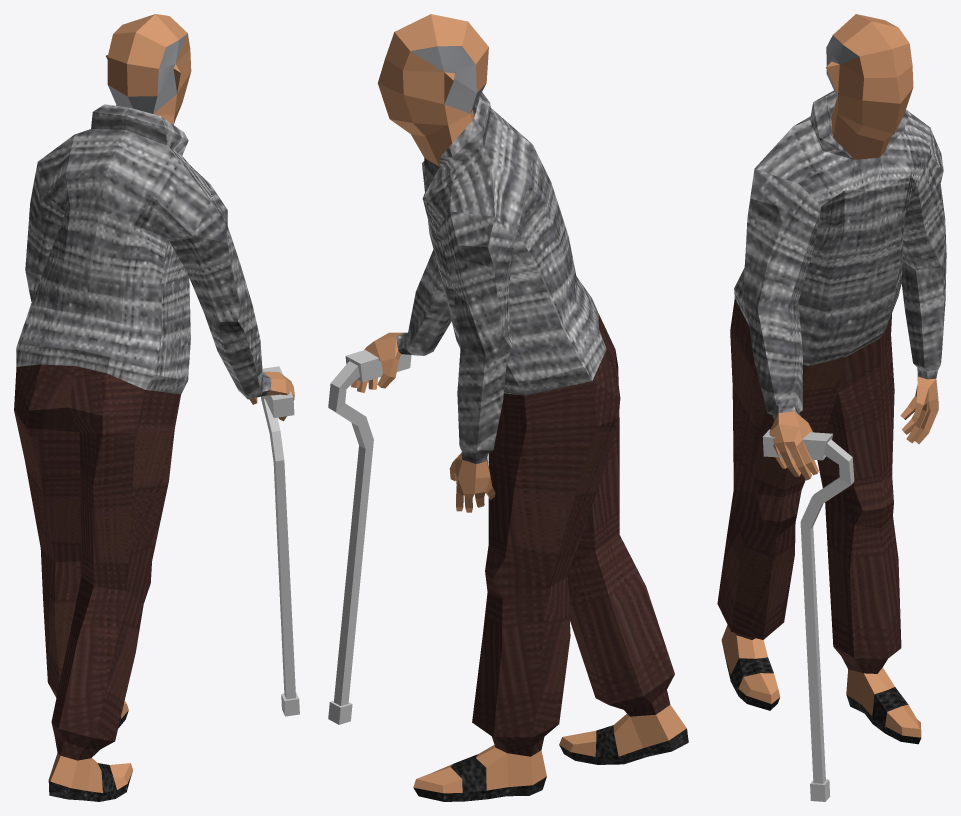
The model's file is Disabled People5.fbx.
3 views of the same model, side by side, from view 1: azimuth 30°, elevation 25°; view 2: azimuth 150°, elevation 25°; view 3: azimuth 270°, elevation 25° (orthographic). The views are drawn at different scales.
Visible parts, largest first — view 1: OfficeManC.015; view 2: OfficeManC.015; view 3: OfficeManC.015.
Boxes of the visible parts, left/top/right/bottom form: OfficeManC.015: left=14, top=14, right=299, bottom=801; OfficeManC.015: left=328, top=14, right=688, bottom=801; OfficeManC.015: left=717, top=14, right=946, bottom=801.
Bounding box in the file's own units: 70.79 × 165 × 46.99.
